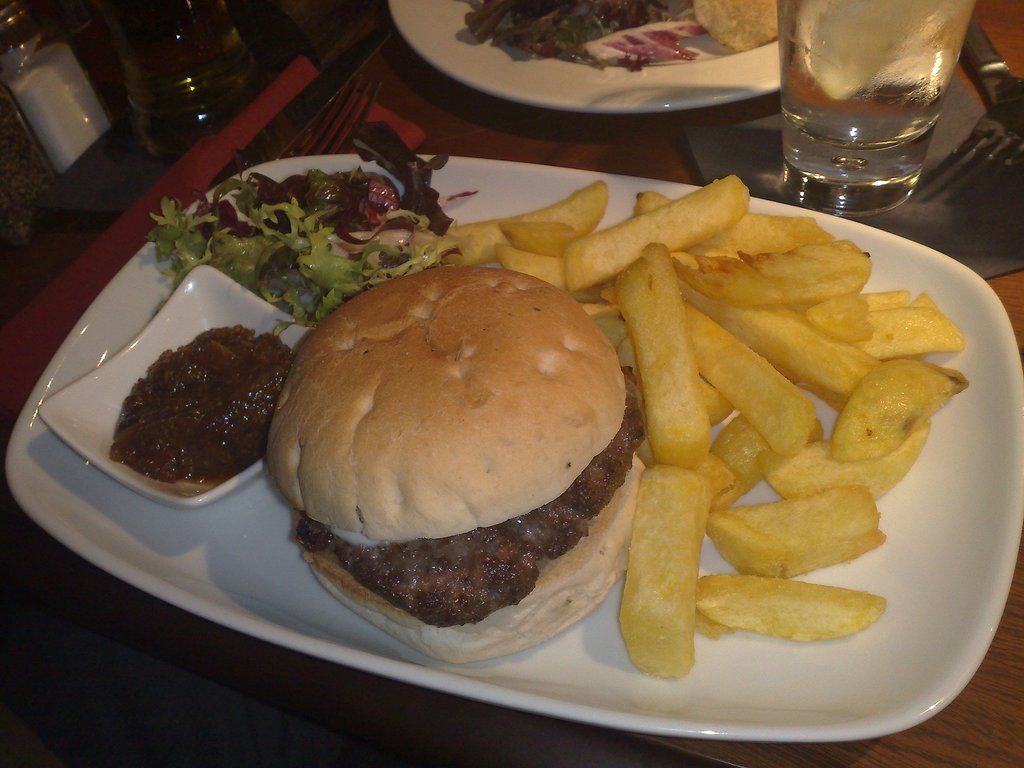French fries: (558, 170, 936, 558)
